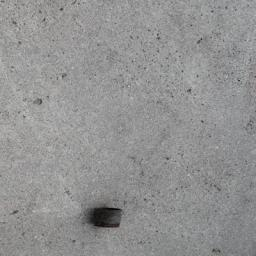FOD: (91, 204, 126, 233)
